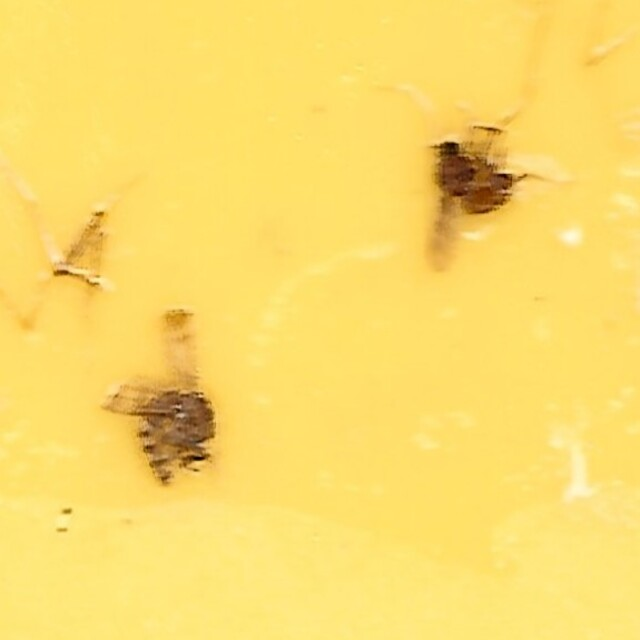Nematocera: (111, 287, 229, 508), (423, 132, 529, 277)
